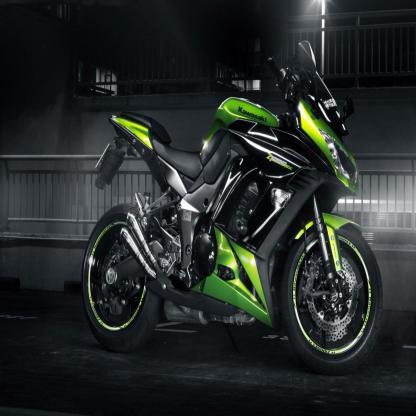Motorcycle: (81, 38, 387, 368)
